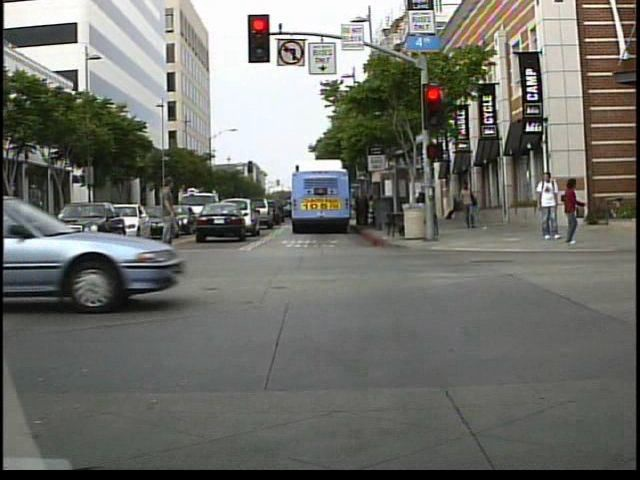person: (146, 177, 190, 258), (555, 175, 588, 246)
